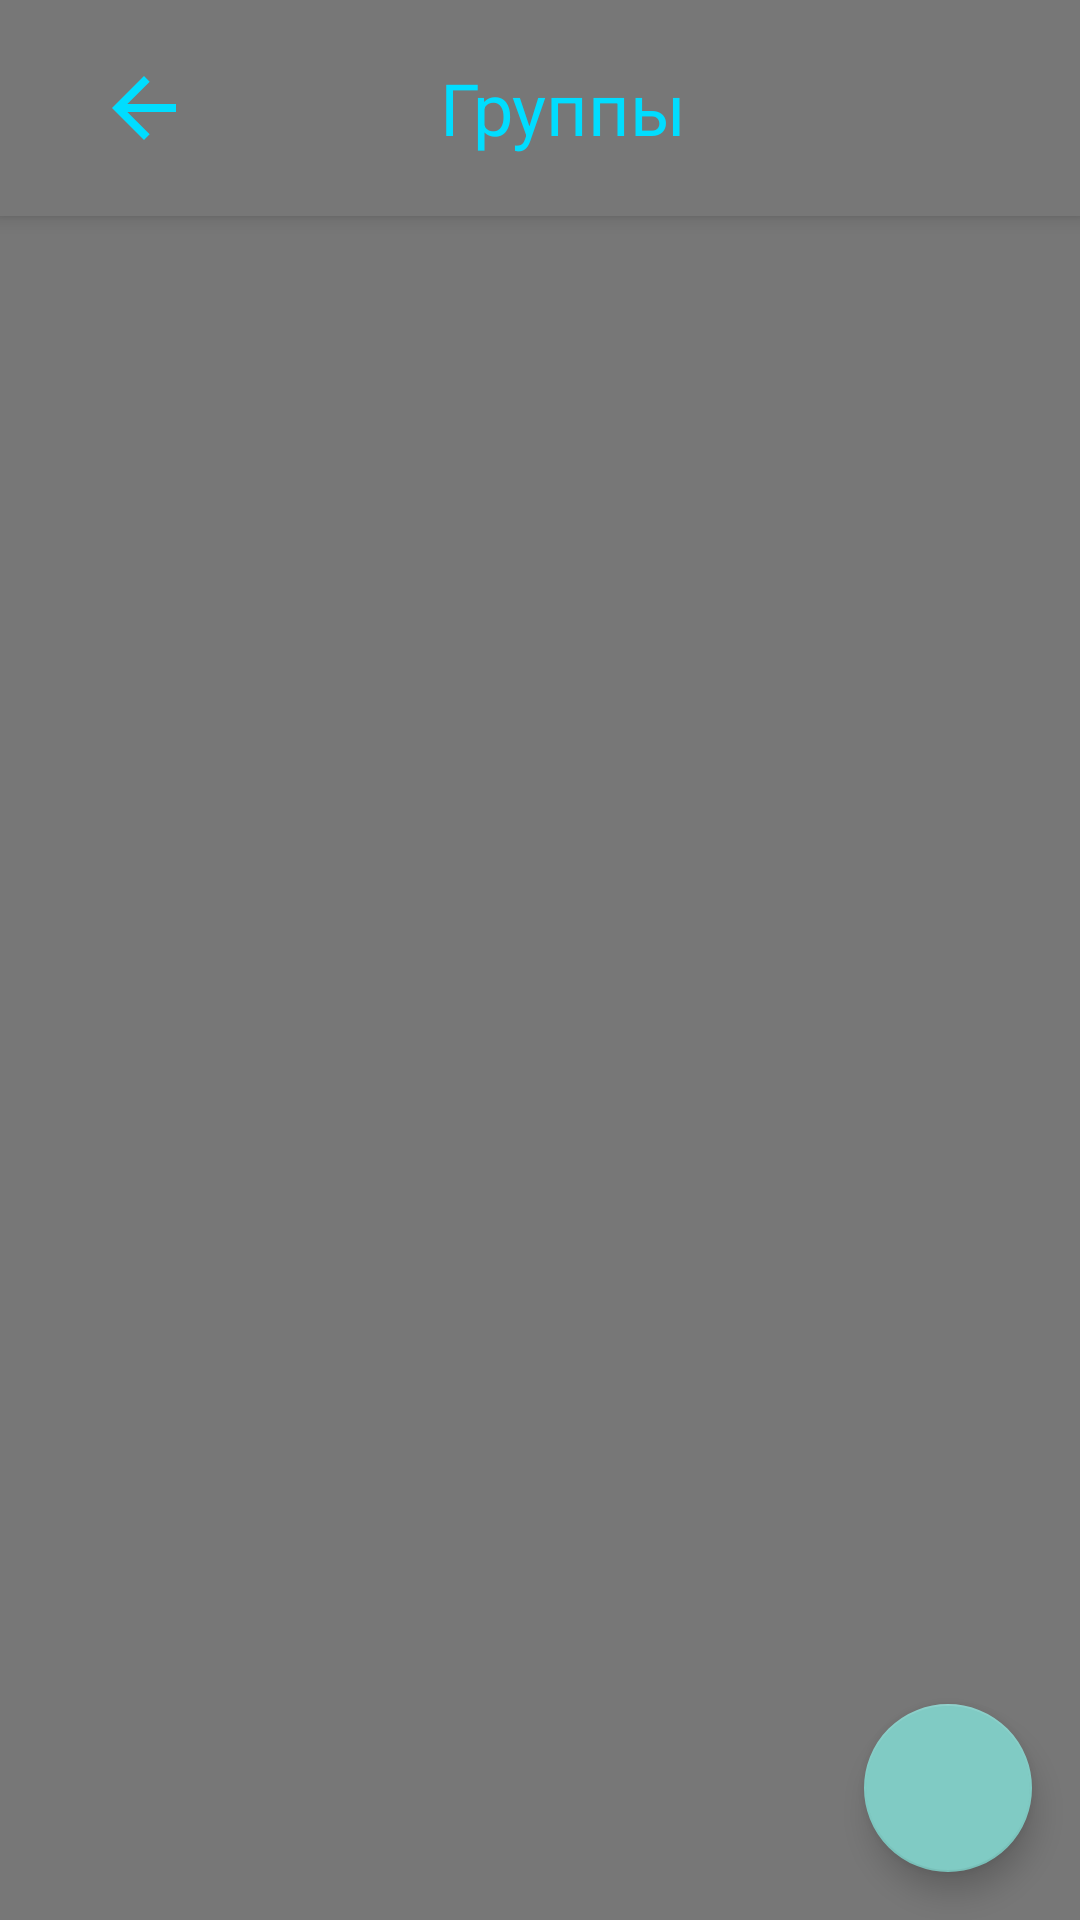

Icon click points for this 1080×1920 phone screenshot, format (x=x, y=y):
arrow back: (x=144, y=108)
